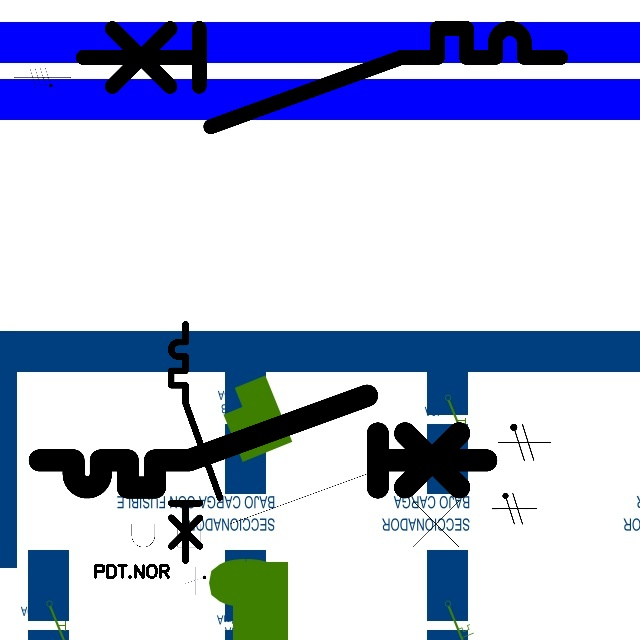interruptor_termomagnetico: (70, 16, 572, 139), (28, 384, 497, 499), (93, 459, 492, 557), (165, 318, 226, 567)
